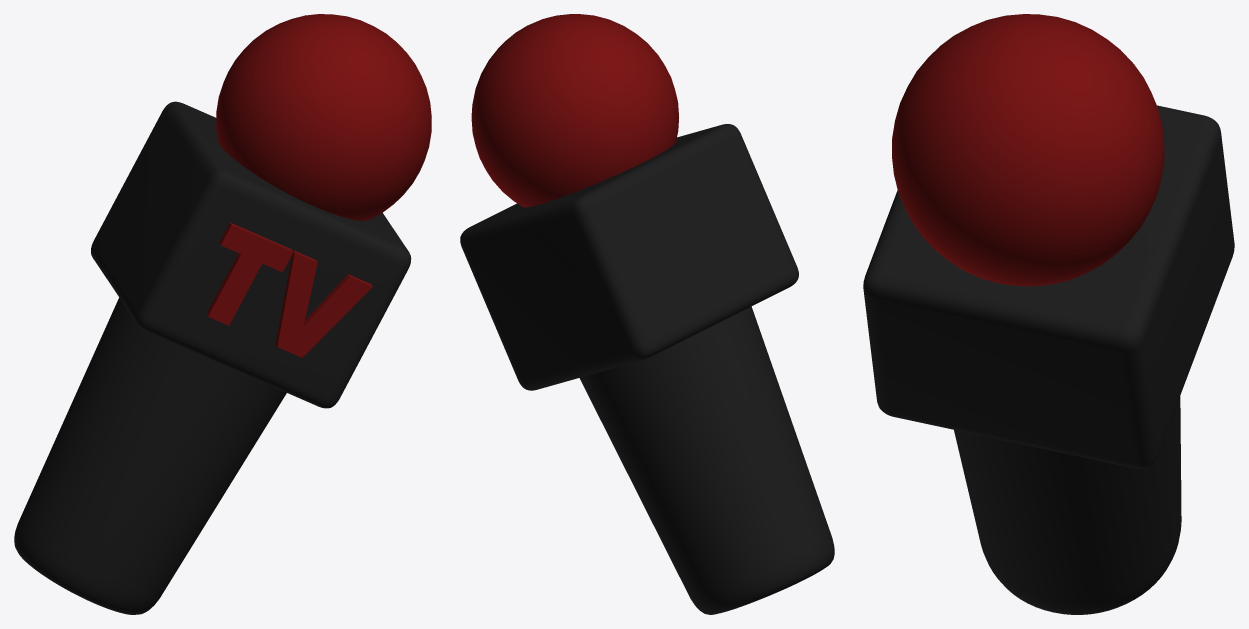
Rendered from microphone.glb.
3 renders of one model, left to right at view 1: azimuth 30°, elevation 25°; view 2: azimuth 150°, elevation 25°; view 3: azimuth 270°, elevation 25°, orthographic. The views are drawn at different scales.
Parts seen in each view (by area): view 1: Cylinder002; view 2: Cylinder002; view 3: Cylinder002.
Boxes of the visible parts, x1,y1,x2,y2 form: Cylinder002: (14, 14, 431, 614); Cylinder002: (460, 14, 834, 614); Cylinder002: (863, 14, 1234, 614).
Size of the model in its own units: 0.0509 by 0.0716 by 0.0348.
